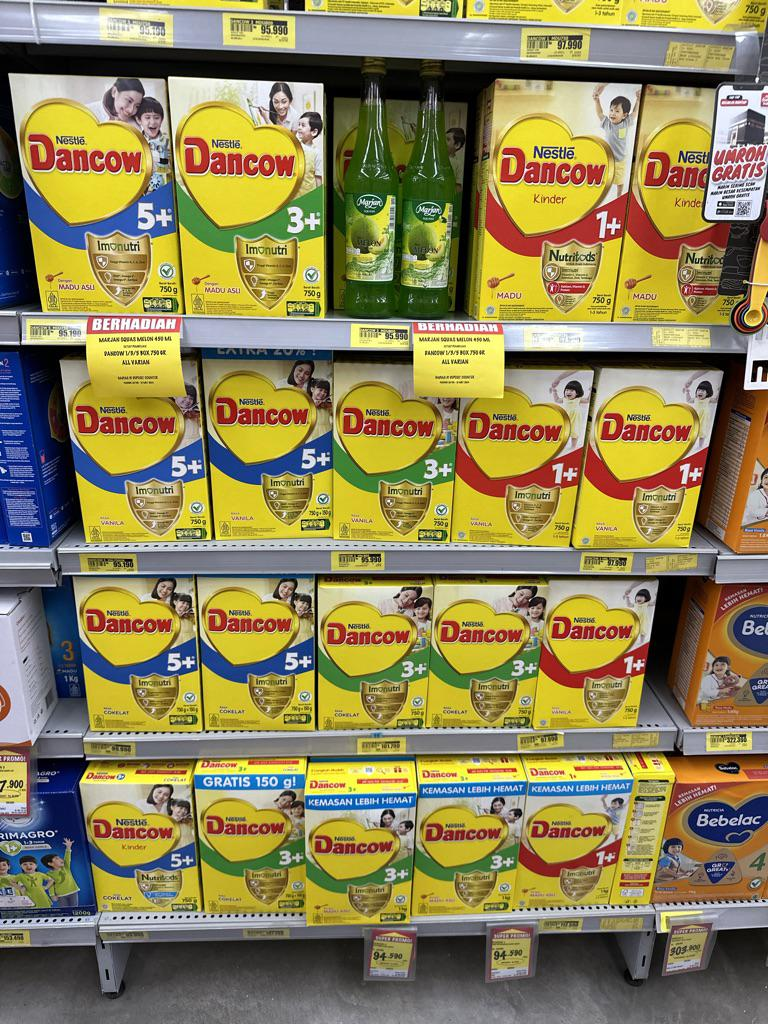DANCOW 1+ Madu Advn ExcNutr 12x1000g N1 ID_REDESIGN3: (509, 796, 612, 908)
DANCOW 1+ Van Advn ExcNutr 12x800g N1 ID_REDESIGN3: (577, 363, 721, 548), (450, 364, 583, 545), (536, 578, 659, 729)
DANCOW 3+ Madu Advn ExcNutr 12x1000g ID_REDESIGN3: (413, 796, 513, 915), (305, 810, 411, 922)
DANCOW 3+ Madu Advn ExcNutr 12x800g ID_REDESIGN3: (175, 77, 326, 322)
DANCOW 3+ Van Advn ExcNutr 12x800g ID_REDESIGN3: (334, 393, 449, 541)
DANCOW 5+ Madu Advn ExcNutr 12x800g ID_REDESIGN3: (17, 74, 184, 315)
